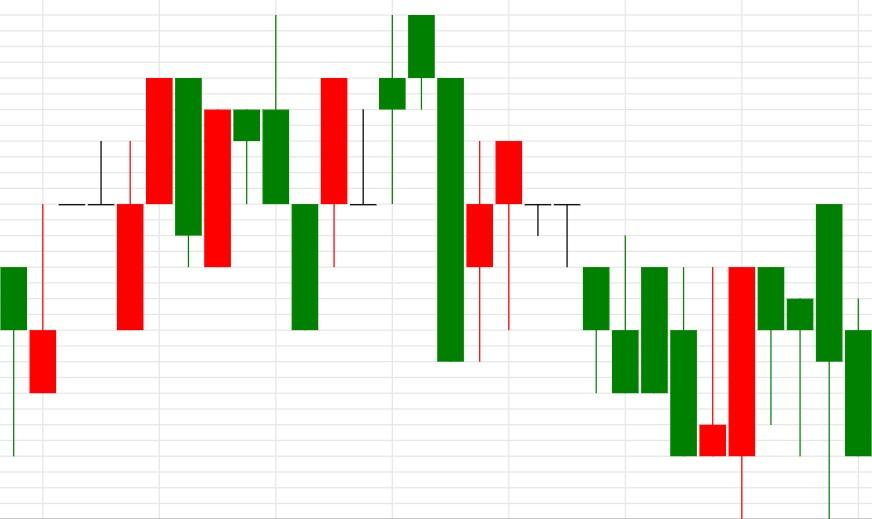bearish_engulfing_fall: (28, 77, 203, 393)
inverse_hammer_rise: (495, 140, 727, 456)
